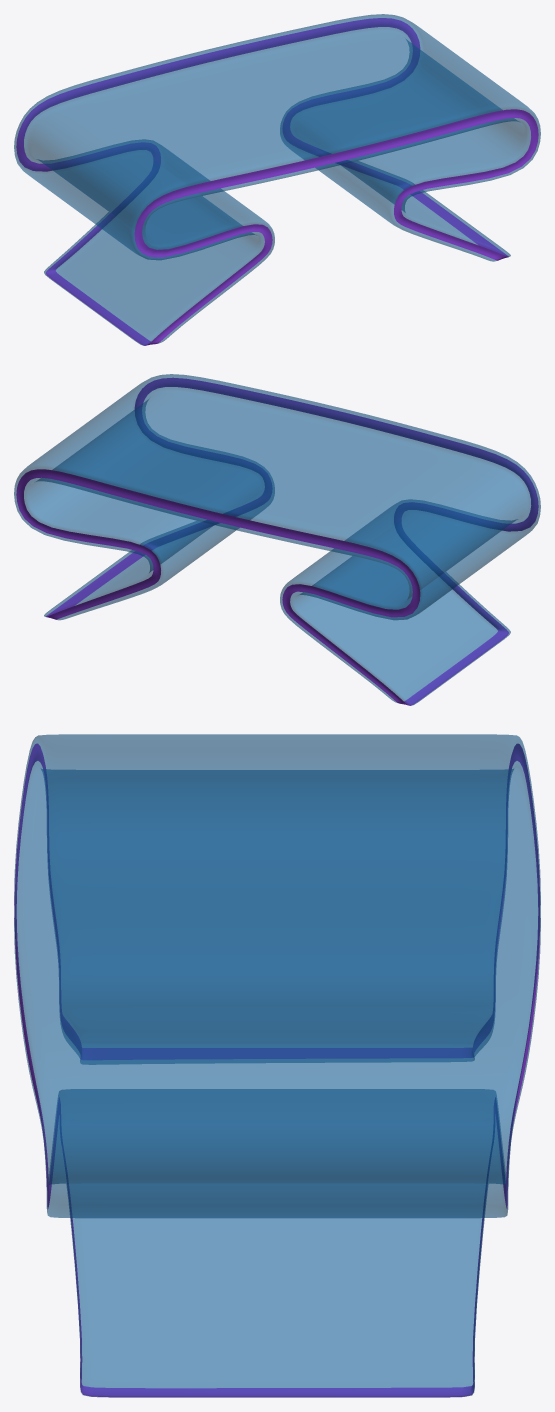
File: desk.gltf
3 views of the same model, one above another, from view 1: azimuth 30°, elevation 25°; view 2: azimuth 150°, elevation 25°; view 3: azimuth 270°, elevation 25° (orthographic). The views are drawn at different scales.
Visible parts, largest first — view 1: Object_2, Object_3; view 2: Object_2, Object_3; view 3: Object_2, Object_3.
Boxes of the visible parts, x1,y1,x2,y2 form: Object_2: (14, 14, 540, 345); Object_3: (16, 18, 538, 345); Object_2: (14, 374, 540, 705); Object_3: (16, 377, 538, 705); Object_2: (14, 734, 540, 1397); Object_3: (14, 743, 540, 1397).
Size of the model in its own units: 3.3 by 1.3 by 1.88.
